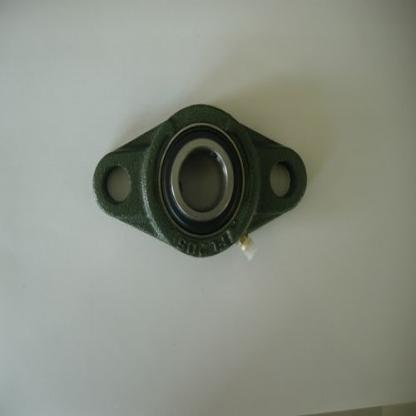FOD: (155, 120, 246, 240)
